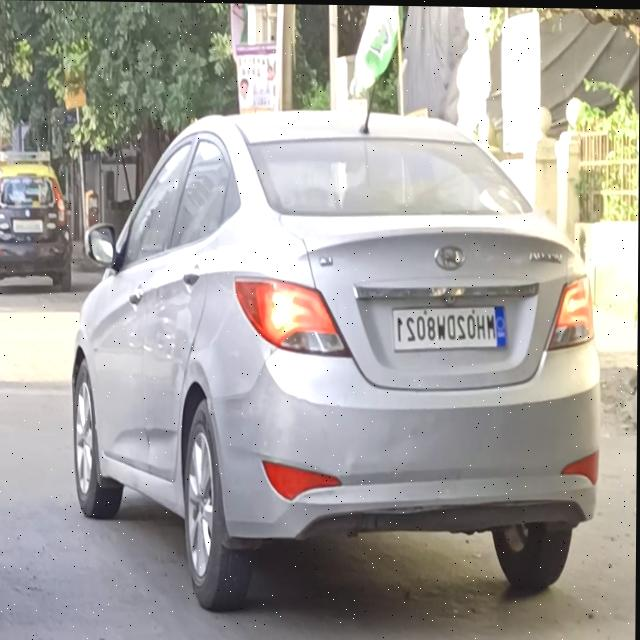plate: (393, 301, 509, 351)
